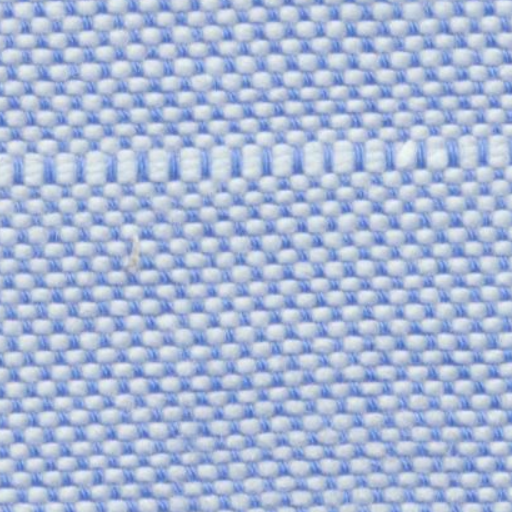TuoSha: (8, 102, 496, 206)
